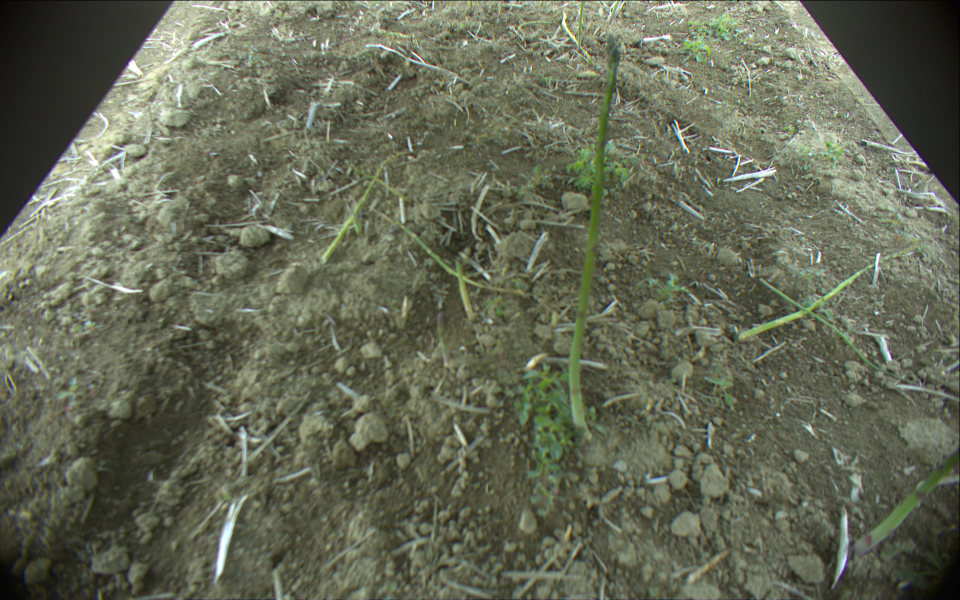aspa: (569, 38, 624, 430), (739, 241, 918, 344), (759, 277, 900, 382), (369, 204, 526, 298), (855, 446, 960, 556), (321, 144, 413, 261), (454, 258, 478, 316), (344, 195, 363, 232), (576, 1, 586, 48)
